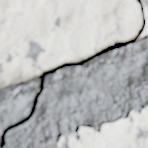brick: (69, 107, 147, 147), (57, 136, 63, 147)
broken_brick: (0, 0, 142, 87), (140, 0, 147, 37)
crack: (0, 0, 146, 147)
